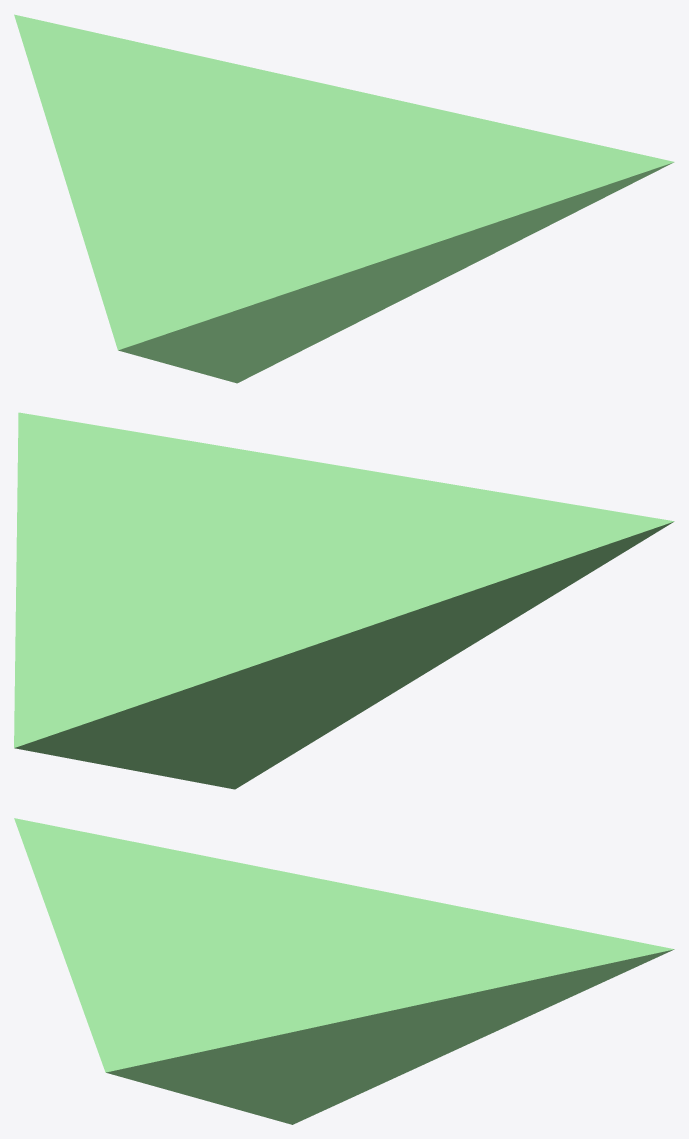
The model's file is linkhou_LR4_R560_link3_respondable_coll_1.dae.
3 views of the same model, one above another, from view 1: azimuth 30°, elevation 25°; view 2: azimuth 150°, elevation 25°; view 3: azimuth 270°, elevation 25° (orthographic). The views are drawn at different scales.
Parts seen in each view (by area): view 1: Node_0000029808434150; view 2: Node_0000029808434150; view 3: Node_0000029808434150.
Part boxes in pixels (left/top/right/bottom): Node_0000029808434150: left=14, top=14, right=674, bottom=383; Node_0000029808434150: left=14, top=412, right=674, bottom=789; Node_0000029808434150: left=14, top=818, right=674, bottom=1124.
Bounding box in the file's own units: 0.000713 × 0.000247 × 0.000782.
